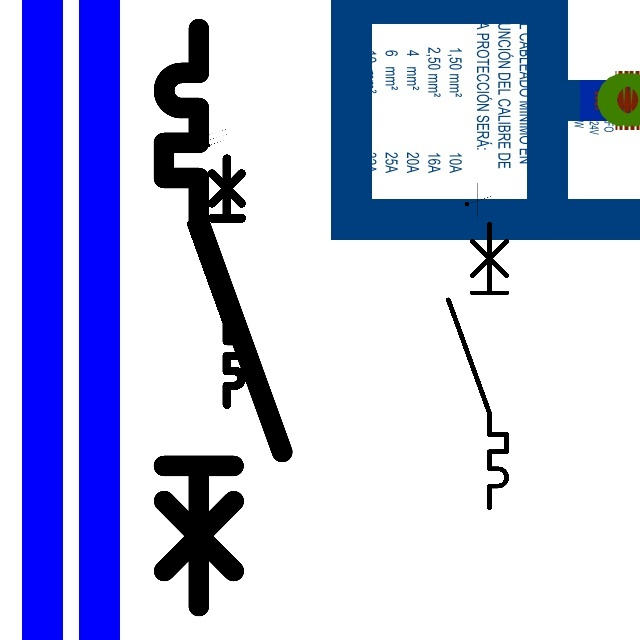interruptor_termomagnetico: (149, 14, 297, 620), (441, 216, 514, 515), (185, 152, 248, 410)
